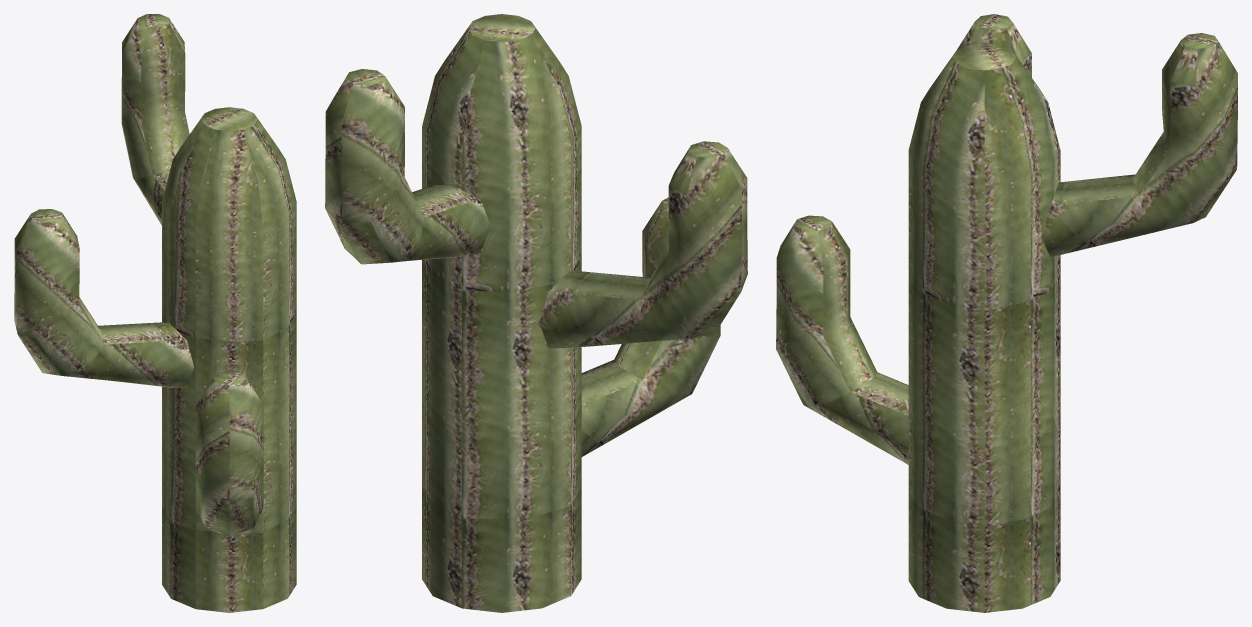
File: cactus_2.obj
The picture shows the model from 3 angles, left to right: view 1: azimuth 30°, elevation 25°; view 2: azimuth 150°, elevation 25°; view 3: azimuth 270°, elevation 25°; orthographic projection. The views are drawn at different scales.
Parts seen in each view (by area): view 1: cactus4; view 2: cactus4; view 3: cactus4.
Part boxes in pixels (x1,y1,x2,y2): cactus4: (14, 14, 296, 612); cactus4: (325, 14, 747, 612); cactus4: (776, 14, 1237, 612).
Bounding box in the file's own units: 3.75 × 6.59 × 5.01.
1 material, 1 textured.
